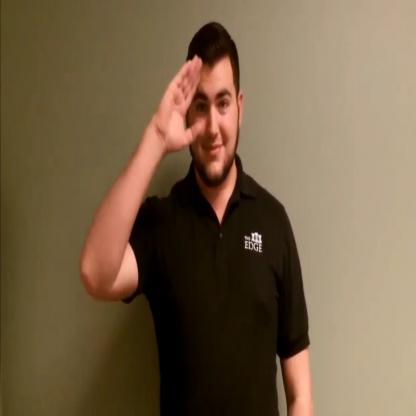Hello: (132, 9, 252, 220)
